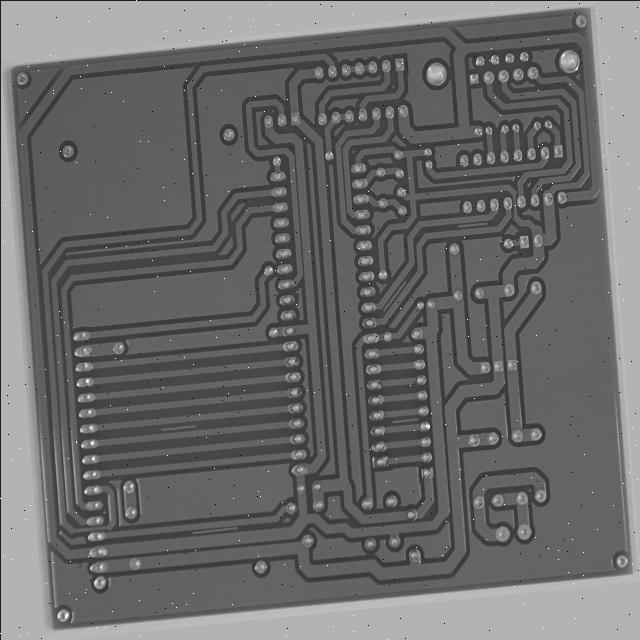spurious_copper: (384, 284, 416, 320), (161, 531, 216, 547), (469, 224, 510, 240), (136, 415, 179, 430), (383, 430, 420, 446)
